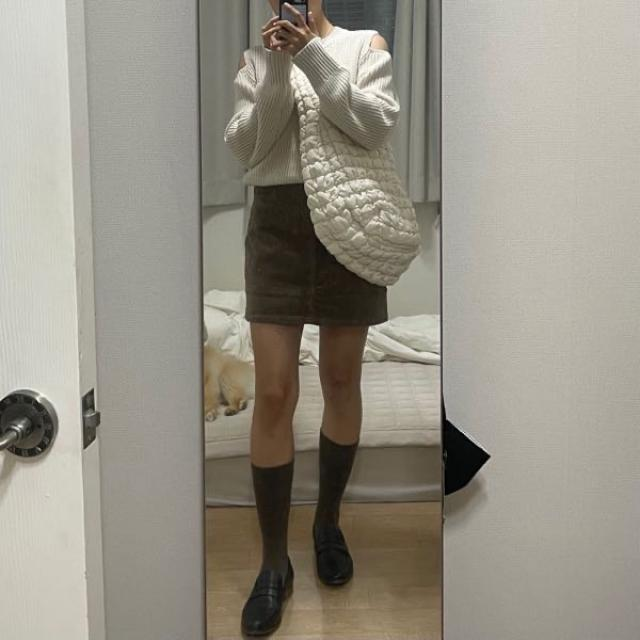skirt: (242, 181, 390, 325)
sweater: (227, 23, 400, 185)
